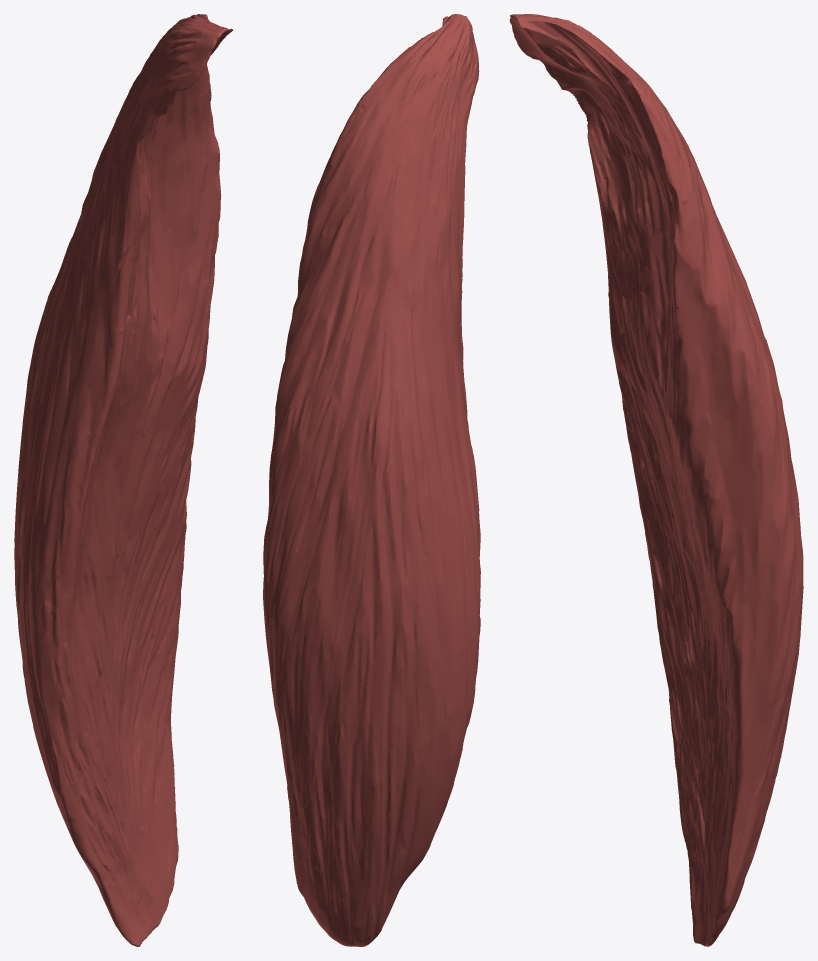
File: FMA45960.glb
3 views of the same model, side by side, from view 1: azimuth 30°, elevation 25°; view 2: azimuth 150°, elevation 25°; view 3: azimuth 270°, elevation 25° (orthographic). The views are drawn at different scales.
Visible parts, largest first — view 1: FMA45960; view 2: FMA45960; view 3: FMA45960.
Boxes of the visible parts, box(x1,y1,x2,y2) form: FMA45960: box(14, 14, 233, 946); FMA45960: box(263, 14, 480, 946); FMA45960: box(509, 14, 803, 946).
Bounding box in the file's own units: 0.0524 × 0.2607 × 0.0754.
